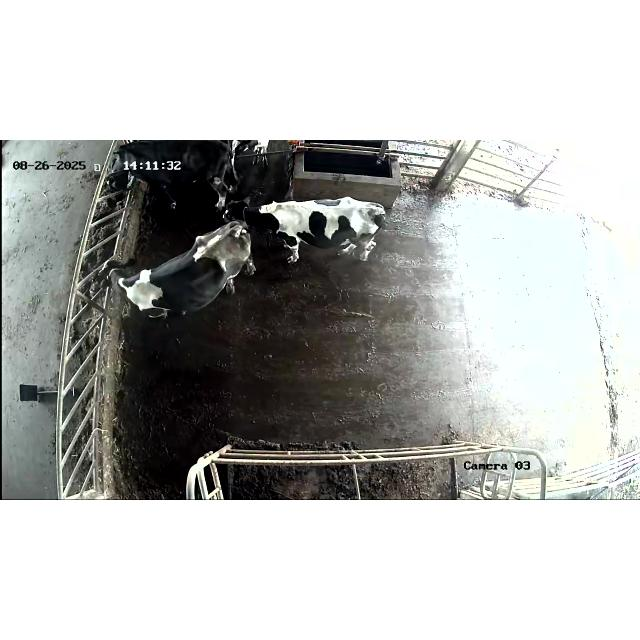stand: (218, 198, 402, 262)
